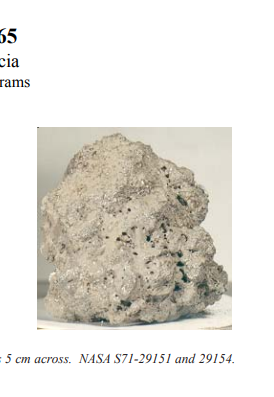Breccia: (38, 128, 232, 329), (80, 185, 207, 302)
